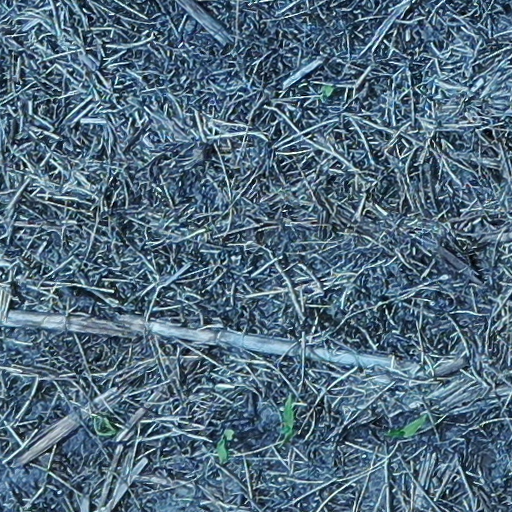planta: (386, 414, 427, 436), (282, 396, 294, 436)
